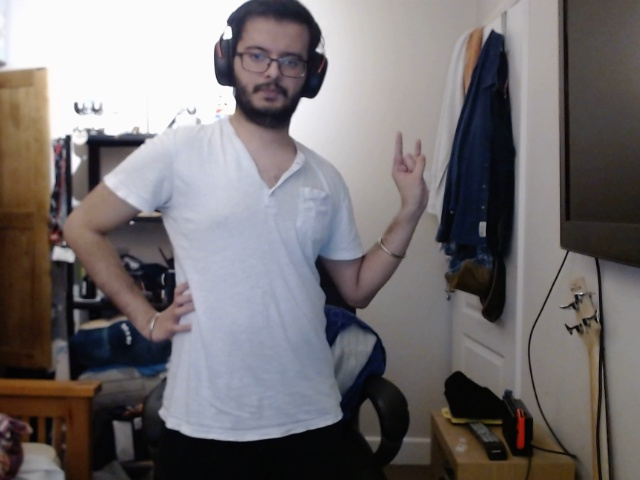Rock on: (380, 127, 436, 224)
